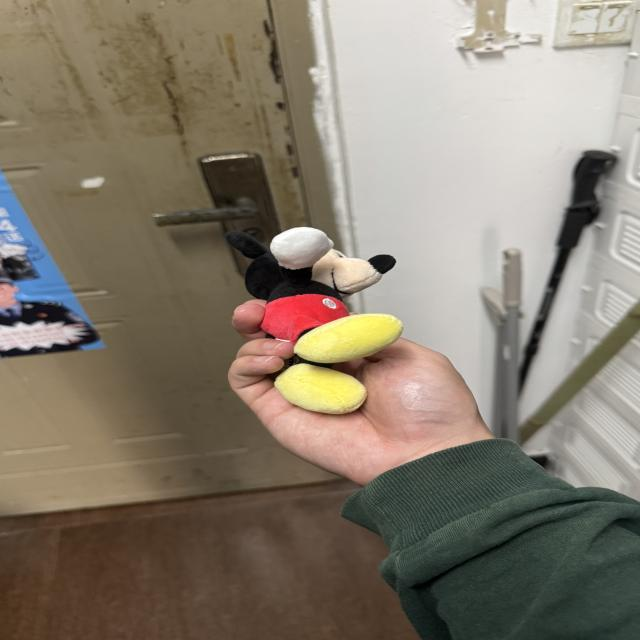mickey: (227, 228, 402, 413)
